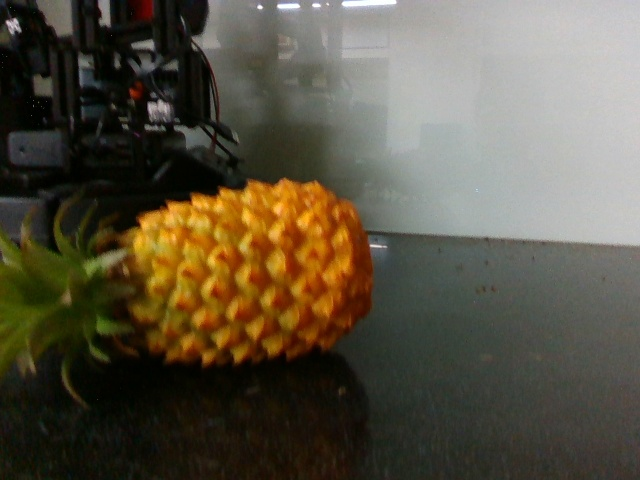pineapple: (5, 168, 379, 386)
